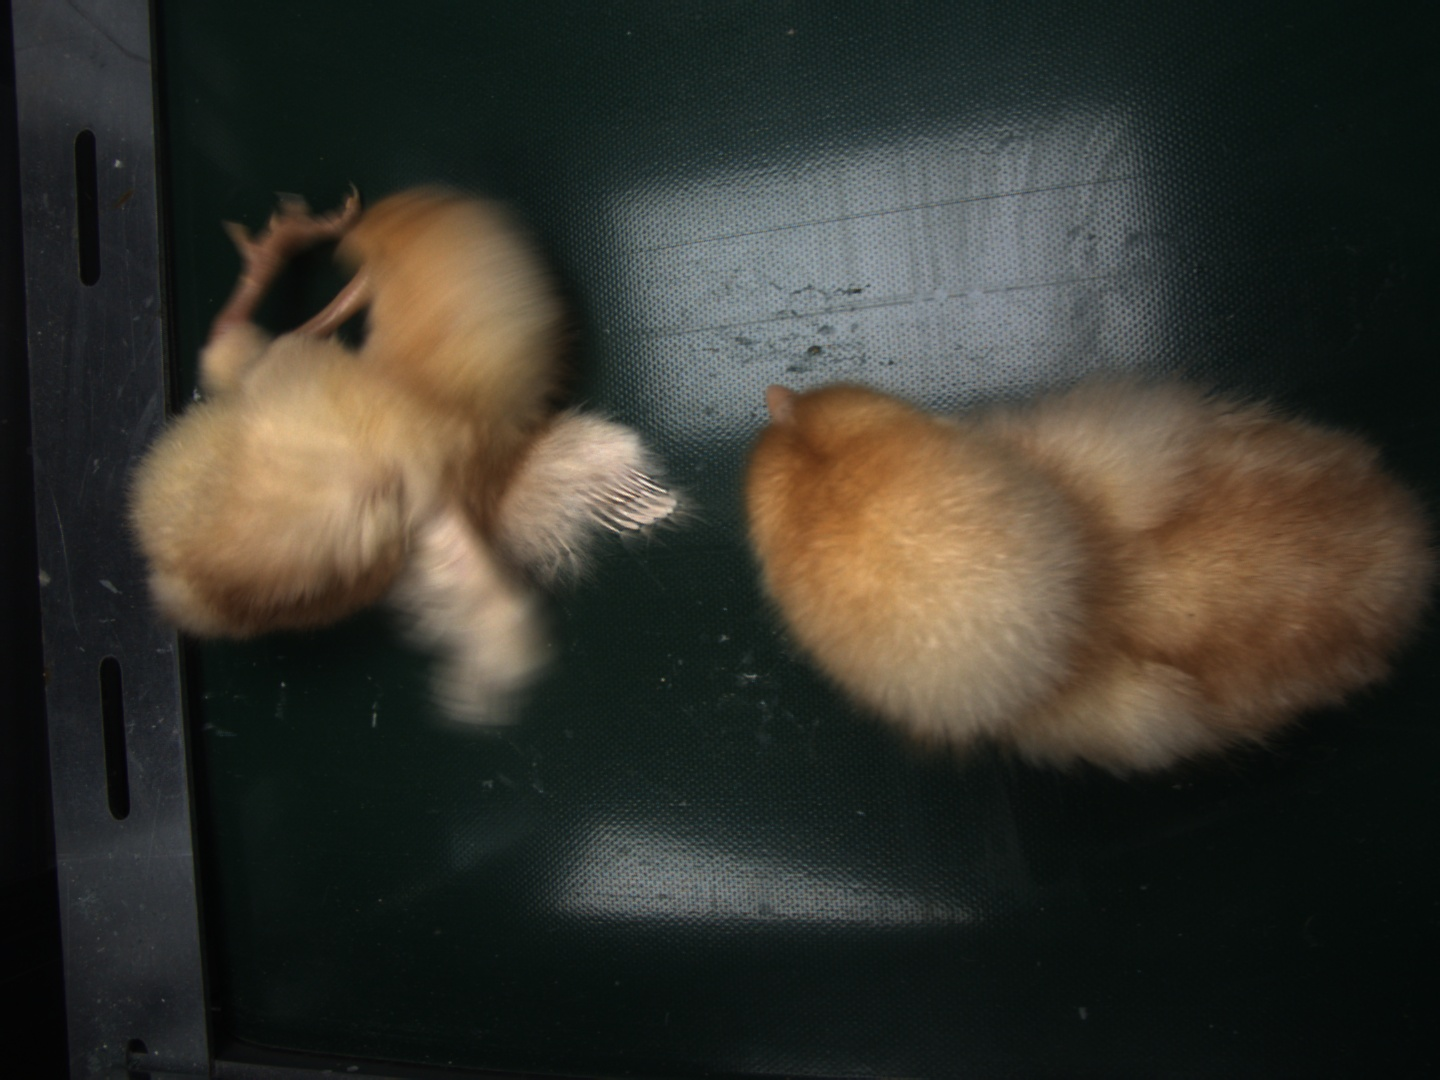female: (581, 464, 678, 535)
